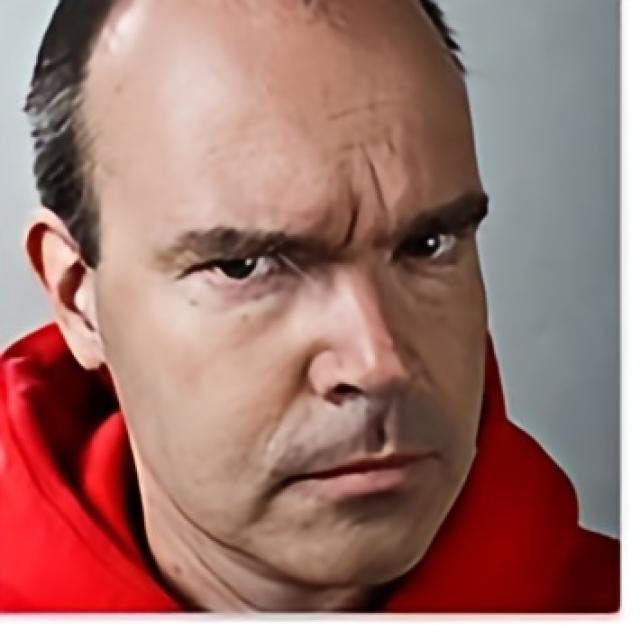anger: (116, 42, 488, 584)
